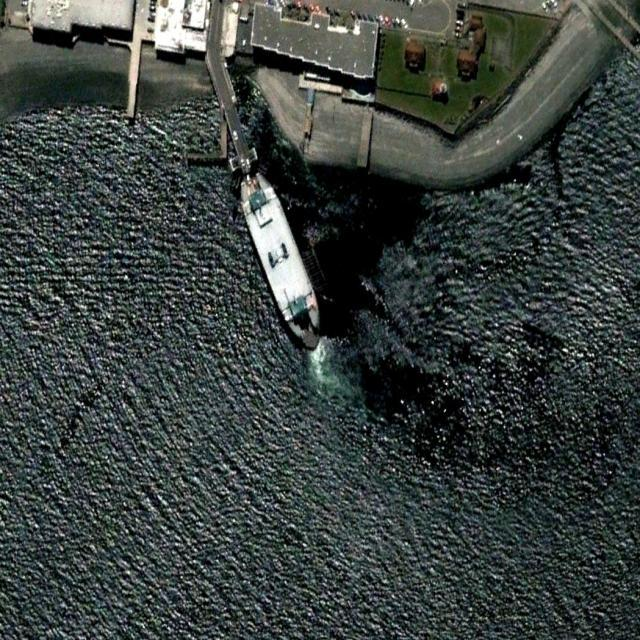RoRo: (233, 163, 329, 358)
